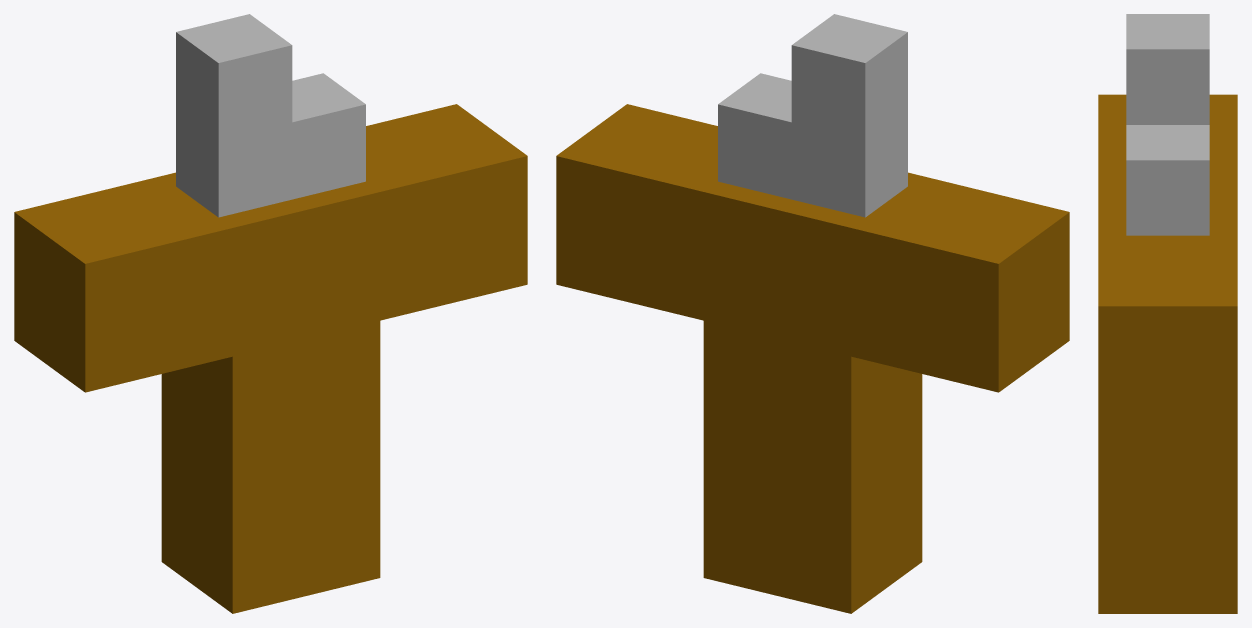
Rendered from broken_sword_scene.glb.
3 views of the same model, side by side, from view 1: azimuth 30°, elevation 25°; view 2: azimuth 150°, elevation 25°; view 3: azimuth 270°, elevation 25° (orthographic). The views are drawn at different scales.
Visible parts, largest first — view 1: Untitled; view 2: Untitled; view 3: Untitled.
Boxes of the visible parts, left/top/right/bottom form: Untitled: left=14, top=14, right=527, bottom=613; Untitled: left=556, top=14, right=1069, bottom=613; Untitled: left=1098, top=14, right=1237, bottom=613.
Bounding box in the file's own units: 1.8 × 2.1 × 0.5.
1 material, 1 textured.
